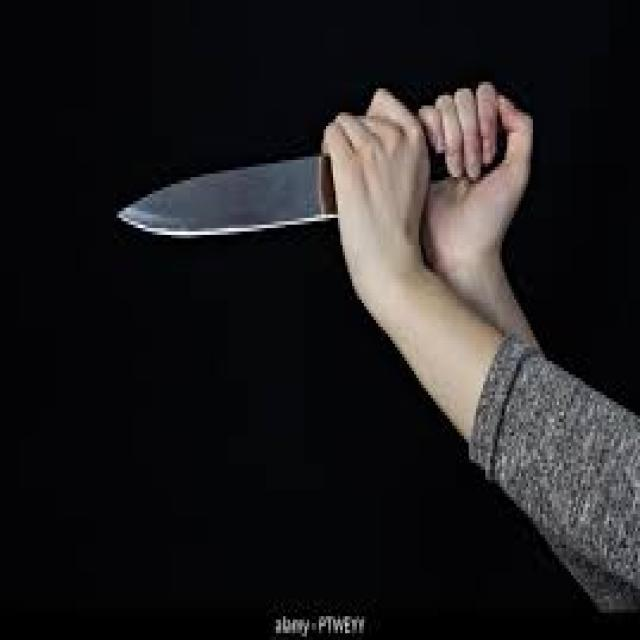faca: (109, 95, 426, 259)
